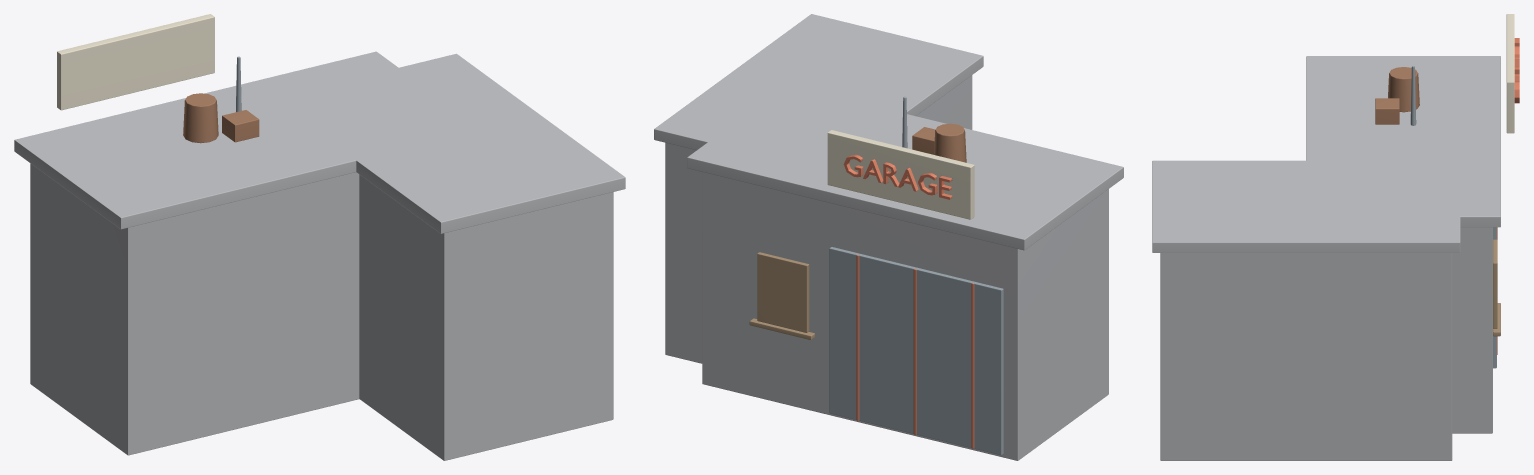
Rendered from shopfront_corner_garage.glb.
The picture shows the model from 3 angles, left to right: view 1: azimuth 30°, elevation 25°; view 2: azimuth 150°, elevation 25°; view 3: azimuth 270°, elevation 25°; orthographic projection. The views are drawn at different scales.
Visible parts, largest first — view 1: shopfront_corner_garage; view 2: shopfront_corner_garage; view 3: shopfront_corner_garage.
Part boxes in pixels (x1,y1,x2,y2): shopfront_corner_garage: (14, 14, 625, 460); shopfront_corner_garage: (654, 14, 1123, 460); shopfront_corner_garage: (1152, 14, 1519, 460).
Size of the model in its own units: 5.45 by 3.95 by 4.53.
